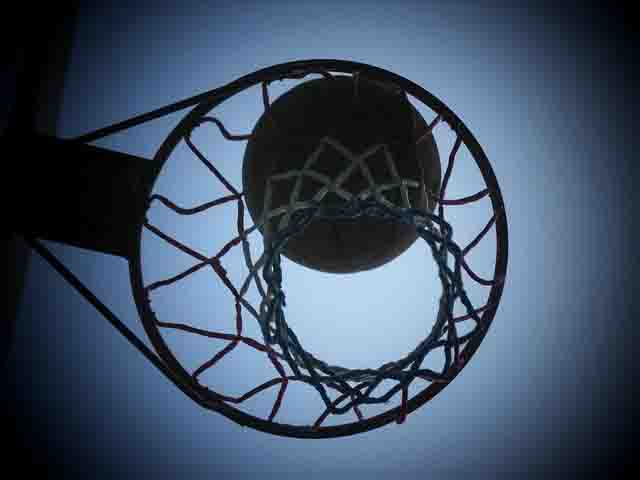basketball: (244, 75, 445, 275)
